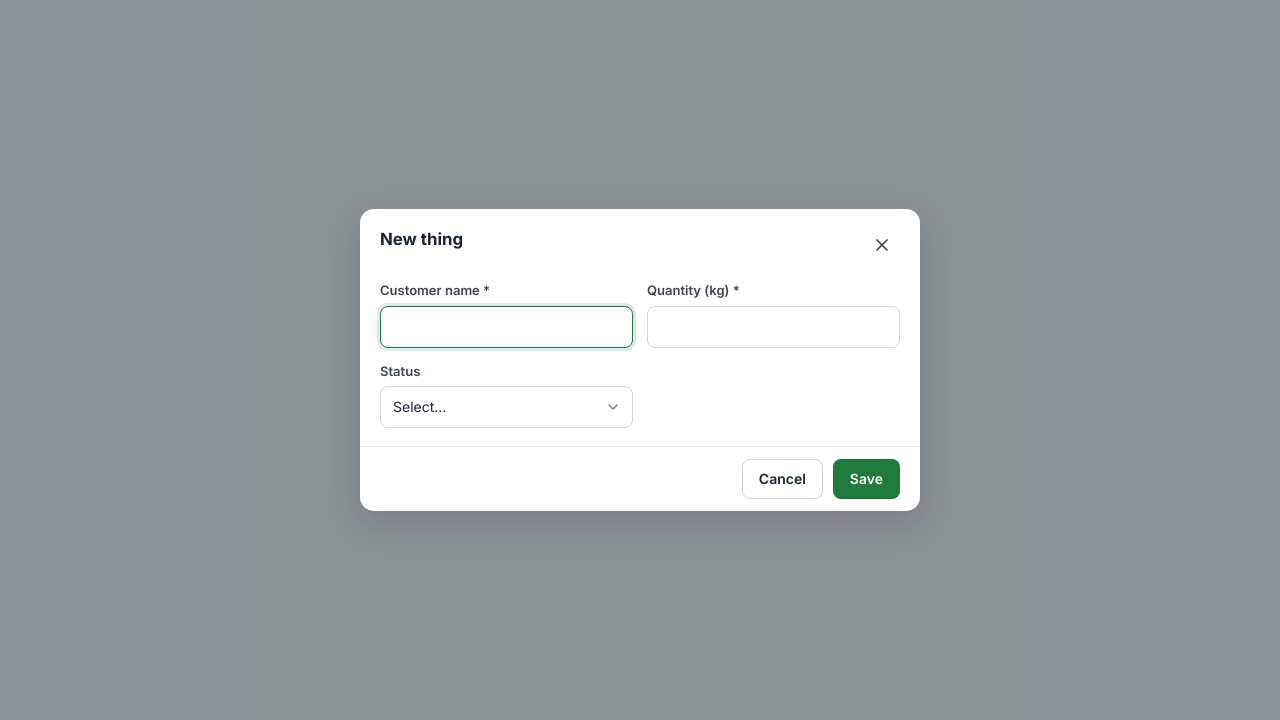
Test: FormModal › validates before sending anything
Type "0" into the number field labelled "Quantity (kg) *".
click(774, 326); type("0")  # box [647, 306, 900, 348]
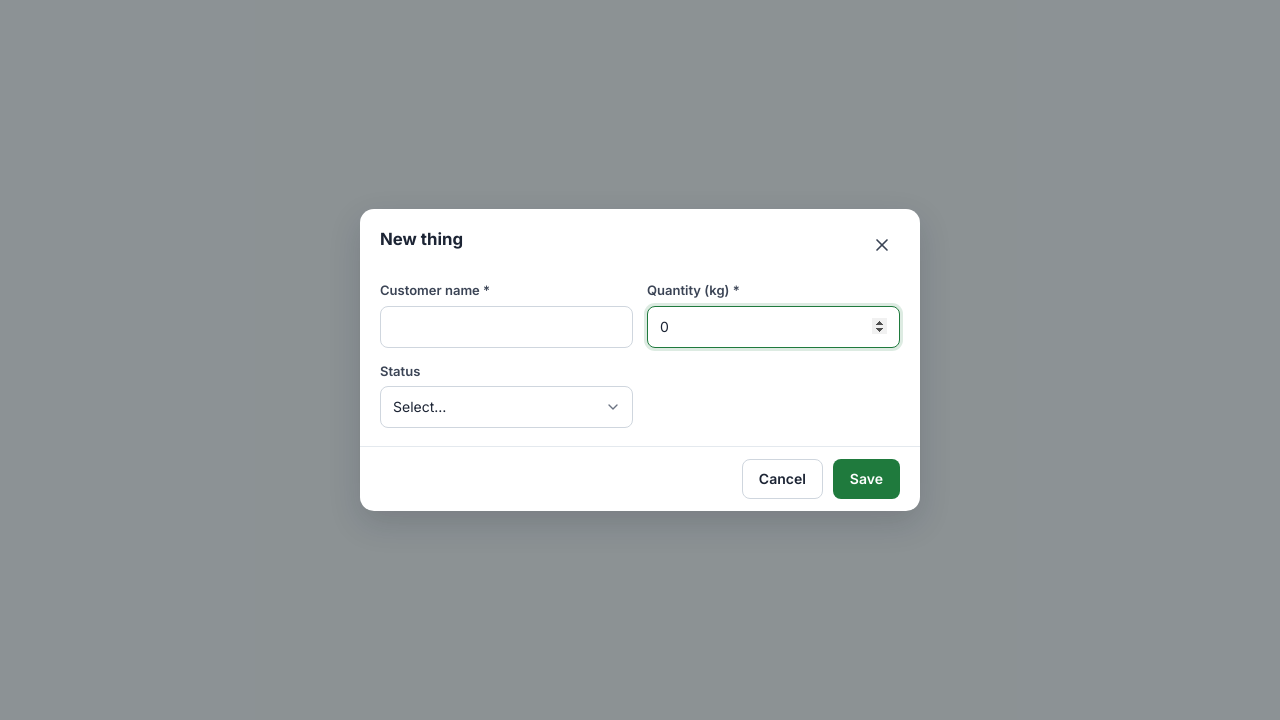
Click the button "Save".
click(866, 479)  # box [833, 459, 900, 499]
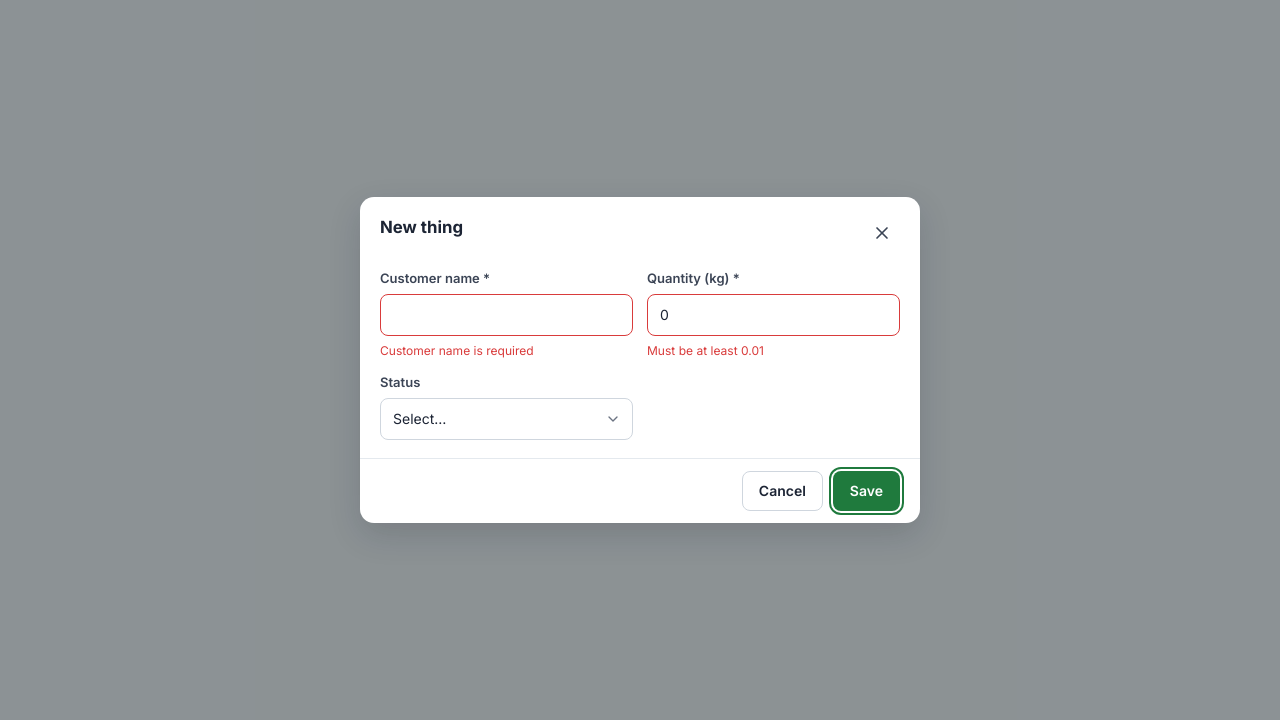
Expected: the text "Customer name is required" is shown, [380, 343, 534, 358]
Expected: the text "Must be at least 0.01" is shown, [647, 343, 764, 358]
